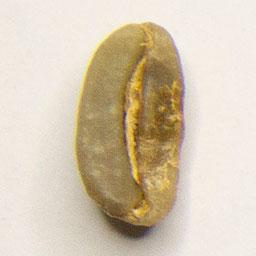longberry: (72, 17, 189, 231)
